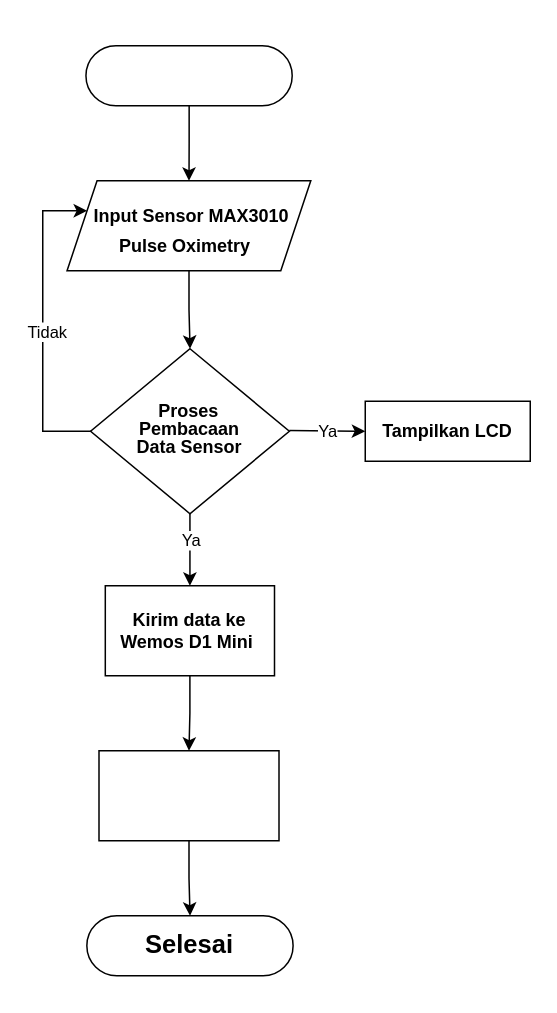
This 557x1013 diagram has some shape labels left out. The box of each missing label's shape, as (x1, y1, x2, y2) in pixels:
Kirim data ke Thingspeak: (98, 749, 279, 841)
Mulai: (84, 44, 292, 106)
